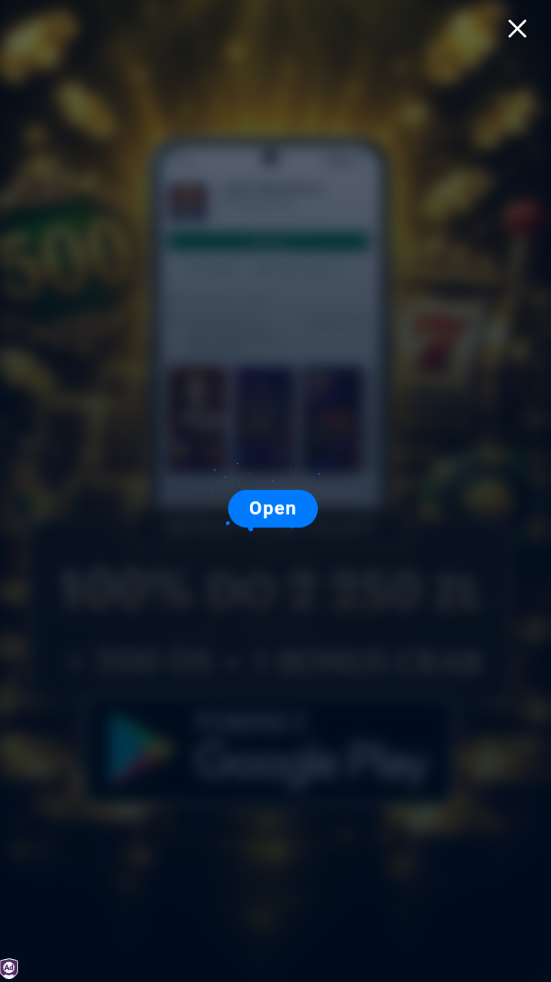close_button: (500, 11, 534, 43)
